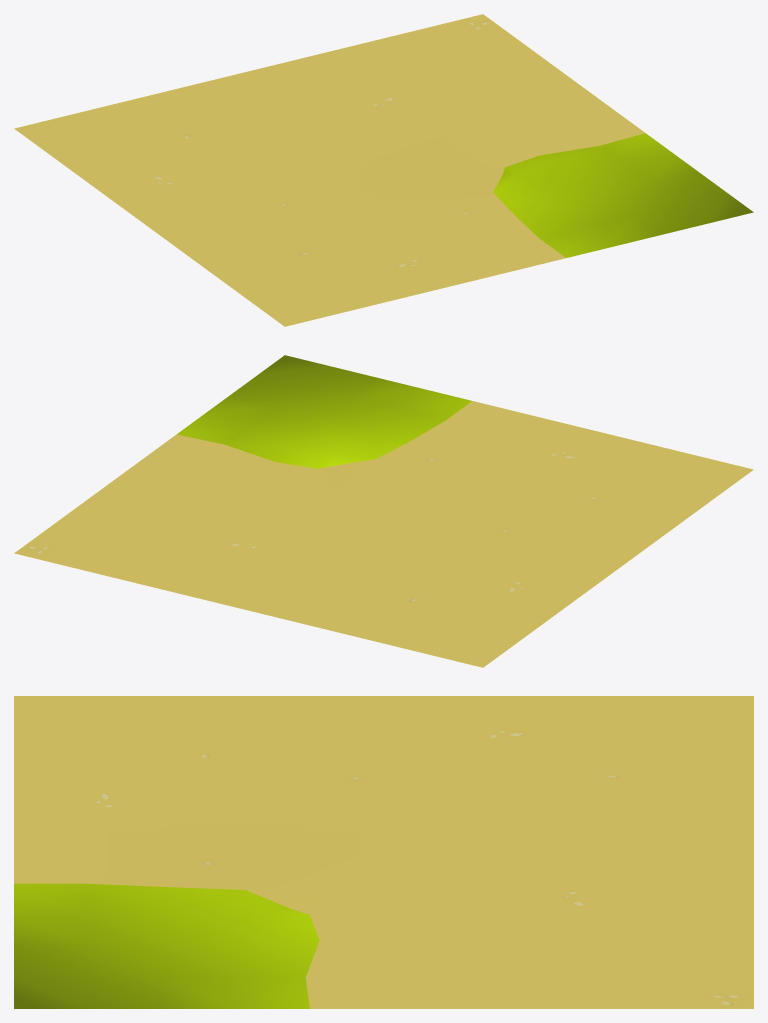
The model's file is Sand_To_Grass_Corner.fbx.
The picture shows the model from 3 angles, top to bottom: view 1: azimuth 30°, elevation 25°; view 2: azimuth 150°, elevation 25°; view 3: azimuth 270°, elevation 25°; orthographic projection. The views are drawn at different scales.
Visible parts, largest first — view 1: Sand_To_Grass_Corner; view 2: Sand_To_Grass_Corner; view 3: Sand_To_Grass_Corner.
Boxes of the visible parts, bbox=[...] form: Sand_To_Grass_Corner: bbox=[14, 14, 753, 326]; Sand_To_Grass_Corner: bbox=[14, 355, 753, 667]; Sand_To_Grass_Corner: bbox=[14, 696, 753, 1008].
Bounding box in the file's own units: 2000 × 2000 × 17.24.
1 material, 1 textured.
